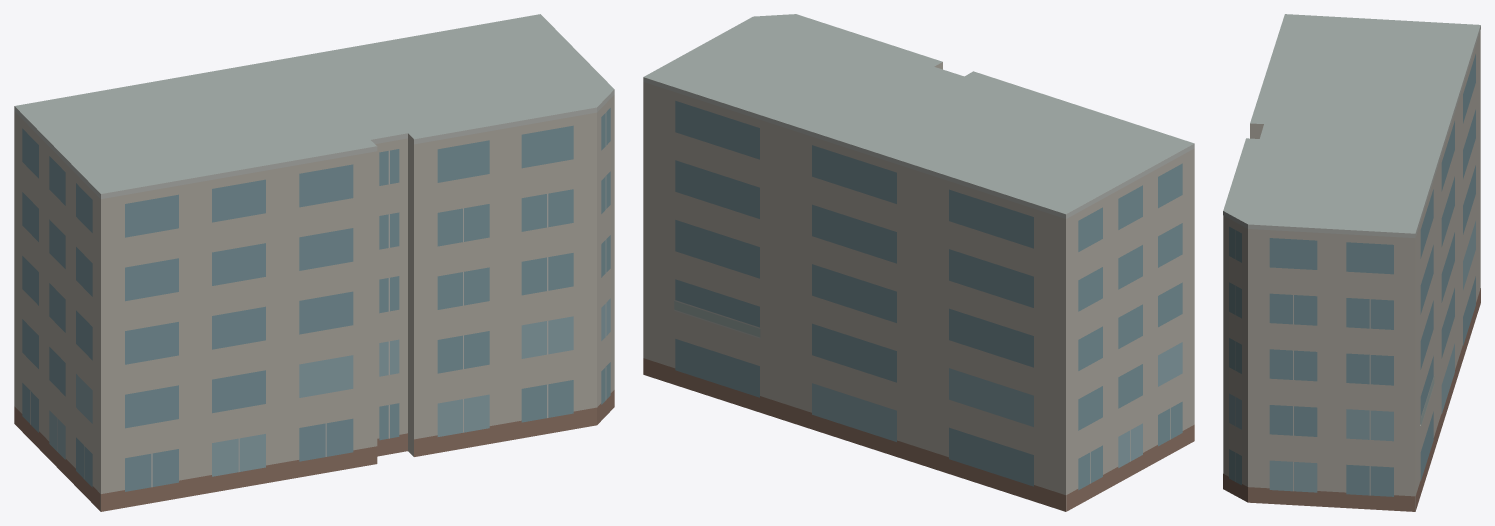
File: survey-upis-32662473.glb
3 renders of one model, left to right at view 1: azimuth 30°, elevation 25°; view 2: azimuth 150°, elevation 25°; view 3: azimuth 270°, elevation 25°, orthographic. The views are drawn at different scales.
Parts seen in each view (by area): view 1: survey-upis-32662473.tmp; view 2: survey-upis-32662473.tmp; view 3: survey-upis-32662473.tmp.
Boxes of the visible parts, x1,y1,x2,y2 form: survey-upis-32662473.tmp: [14, 14, 614, 511]; survey-upis-32662473.tmp: [643, 14, 1194, 511]; survey-upis-32662473.tmp: [1223, 14, 1480, 511].
Bounding box in the file's own units: 25.76 × 15.2 × 12.77.
